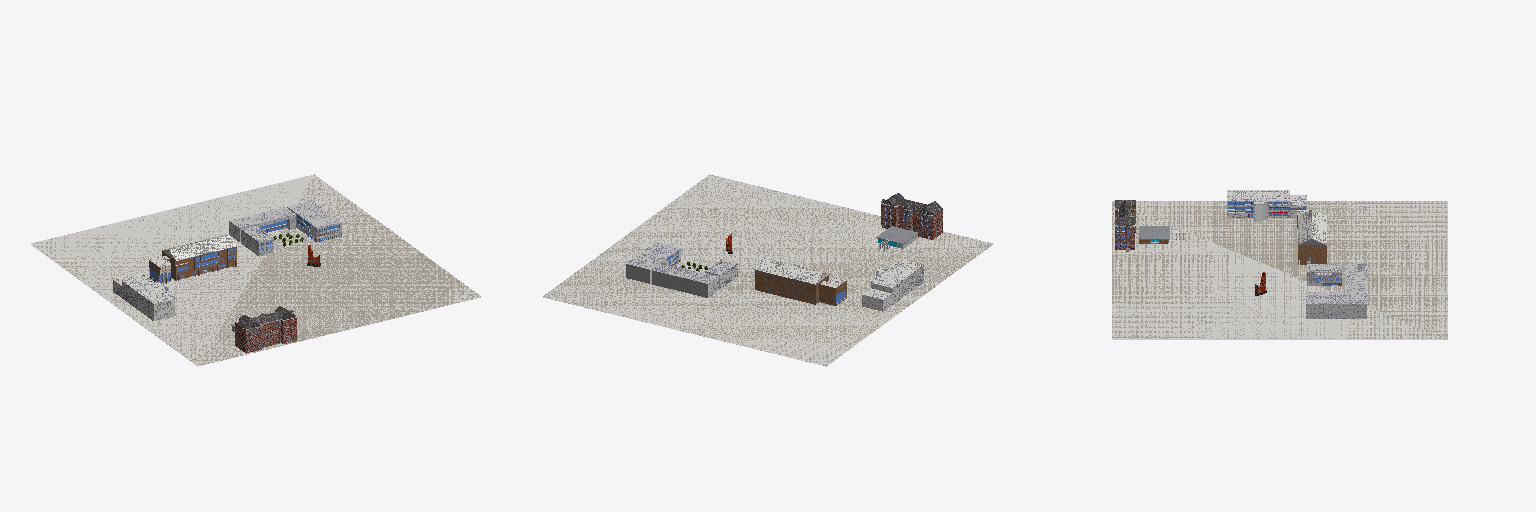
The picture shows the model from 3 angles: view 1: azimuth 30°, elevation 25°; view 2: azimuth 150°, elevation 25°; view 3: azimuth 270°, elevation 25°; orthographic projection.
Parts seen in each view (by area): view 1: Mesh47 Model, Mesh32 E_Gebaude_1_1 Model, Mesh1 c_gebaude1 Model, Mesh45 Model, Mesh14 Mensa_ssc_biblio1 Model, Mesh13 Mensa_ssc_biblio1 Model, Mesh15 Mensa_ssc_biblio1 Model; view 2: Mesh47 Model, Mesh32 E_Gebaude_1_1 Model, Mesh45 Model, Mesh1 c_gebaude1 Model, Mesh13 Mensa_ssc_biblio1 Model, Mesh14 Mensa_ssc_biblio1 Model, Mesh4 alte_mensa1 Model, Mesh15 Mensa_ssc_biblio1 Model; view 3: Mesh47 Model, Mesh45 Model, Mesh14 Mensa_ssc_biblio1 Model, Mesh32 E_Gebaude_1_1 Model, Mesh1 c_gebaude1 Model, Mesh15 Mensa_ssc_biblio1 Model, Mesh13 Mensa_ssc_biblio1 Model, Mesh4 alte_mensa1 Model.
Boxes of the visible parts, x1,y1,x2,y2 form: Mesh47 Model: [31, 174, 480, 366]; Mesh32 E_Gebaude_1_1 Model: [149, 235, 236, 283]; Mesh1 c_gebaude1 Model: [235, 306, 296, 352]; Mesh45 Model: [113, 275, 176, 320]; Mesh14 Mensa_ssc_biblio1 Model: [287, 200, 341, 242]; Mesh13 Mensa_ssc_biblio1 Model: [229, 207, 295, 241]; Mesh15 Mensa_ssc_biblio1 Model: [241, 226, 273, 256]; Mesh47 Model: [543, 174, 992, 366]; Mesh32 E_Gebaude_1_1 Model: [755, 258, 846, 305]; Mesh45 Model: [862, 259, 923, 311]; Mesh1 c_gebaude1 Model: [881, 193, 942, 239]; Mesh13 Mensa_ssc_biblio1 Model: [652, 263, 718, 297]; Mesh14 Mensa_ssc_biblio1 Model: [626, 242, 680, 283]; Mesh4 alte_mensa1 Model: [876, 226, 918, 248]; Mesh15 Mensa_ssc_biblio1 Model: [705, 258, 737, 288]; Mesh47 Model: [1112, 201, 1447, 339]; Mesh45 Model: [1227, 190, 1306, 221]; Mesh14 Mensa_ssc_biblio1 Model: [1306, 292, 1366, 318]; Mesh32 E_Gebaude_1_1 Model: [1297, 209, 1326, 264]; Mesh1 c_gebaude1 Model: [1114, 200, 1135, 251]; Mesh15 Mensa_ssc_biblio1 Model: [1307, 264, 1341, 285]; Mesh13 Mensa_ssc_biblio1 Model: [1346, 264, 1366, 291]; Mesh4 alte_mensa1 Model: [1139, 226, 1169, 243].
Size of the model in its own units: 602 by 60.65 by 615.
34 materials, 2 textured.